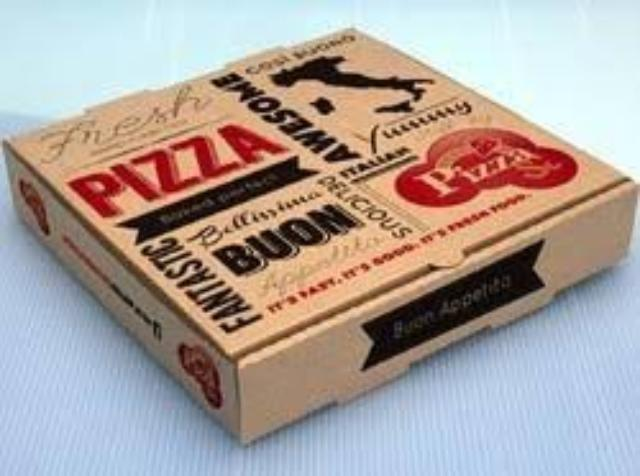cardboard paper: (3, 28, 632, 438)
